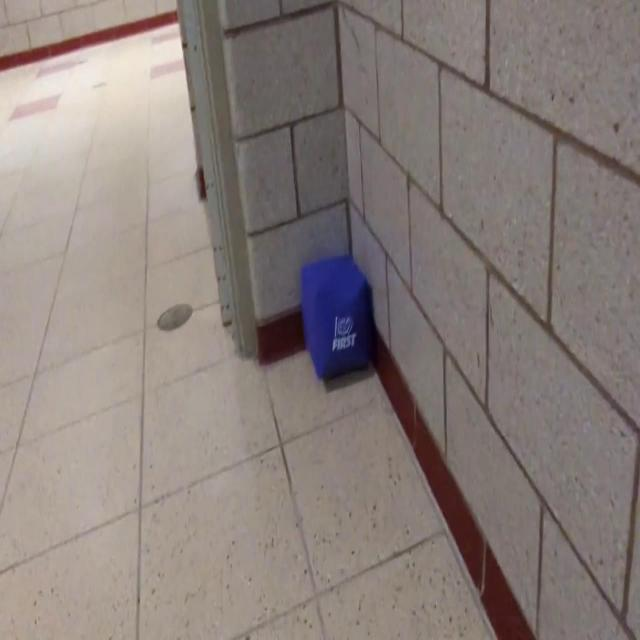frc_cube: (302, 255, 370, 383)
